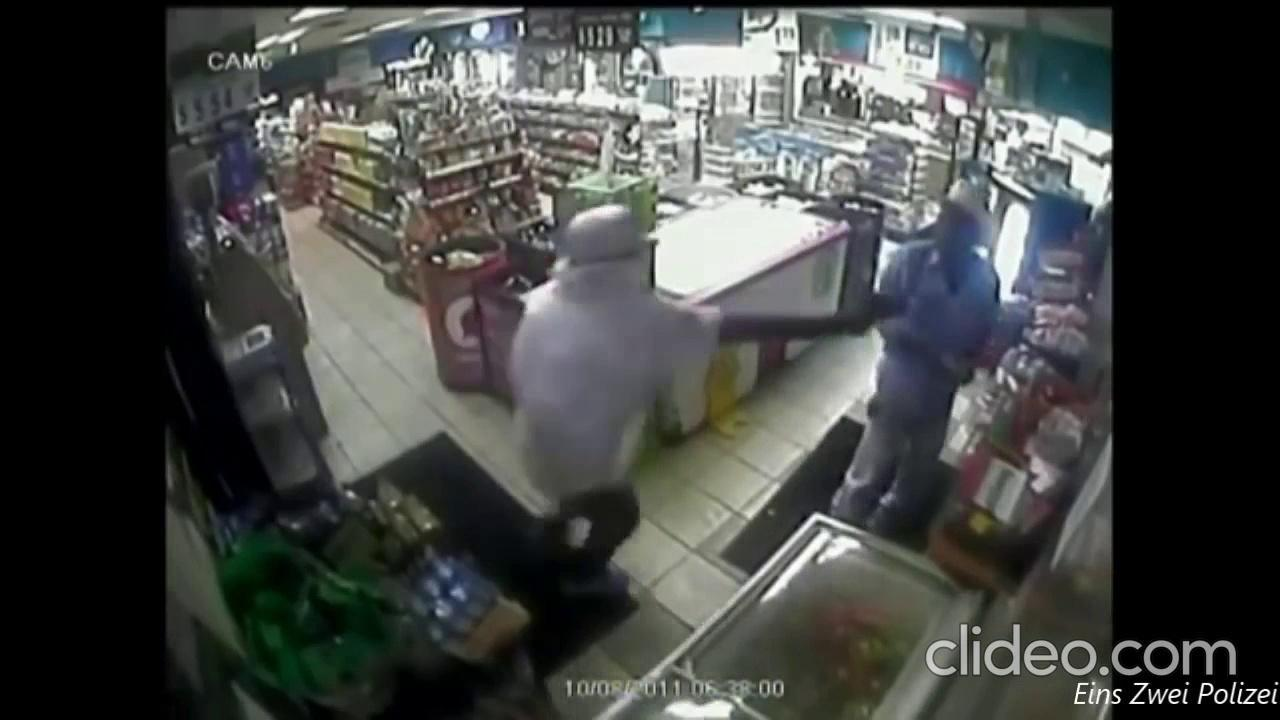person: (500, 202, 879, 604), (829, 178, 1004, 552)
pistol: (856, 287, 908, 337)
